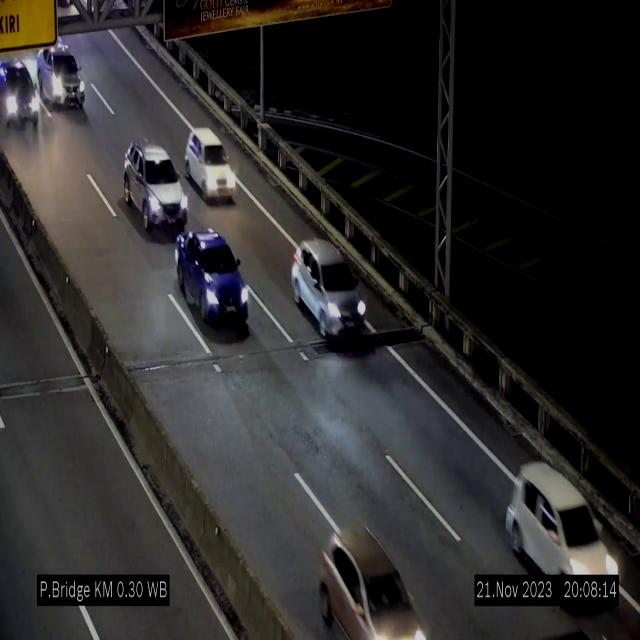Car: (501, 450, 617, 622), (310, 506, 440, 640), (291, 240, 368, 340), (176, 231, 248, 329), (123, 143, 187, 233), (185, 128, 236, 202), (41, 39, 87, 117), (0, 50, 40, 133)
